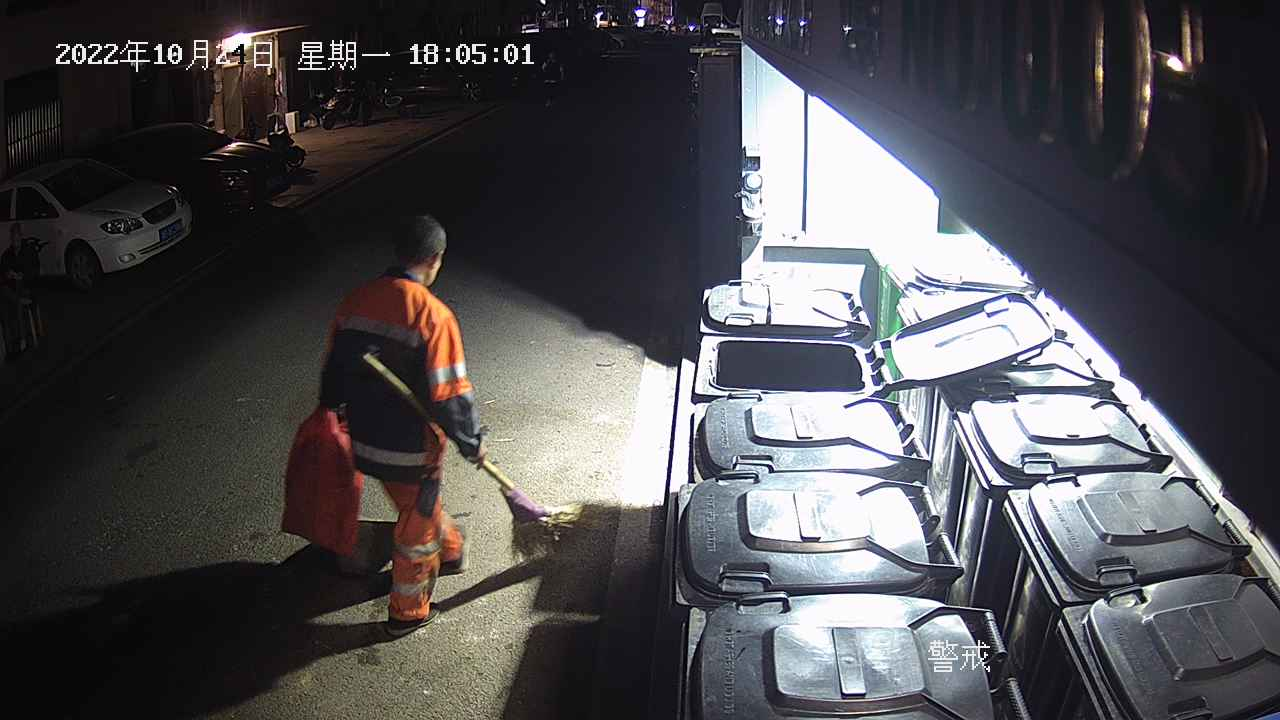garbage-bag: (277, 404, 363, 562)
worker: (315, 210, 488, 640)
